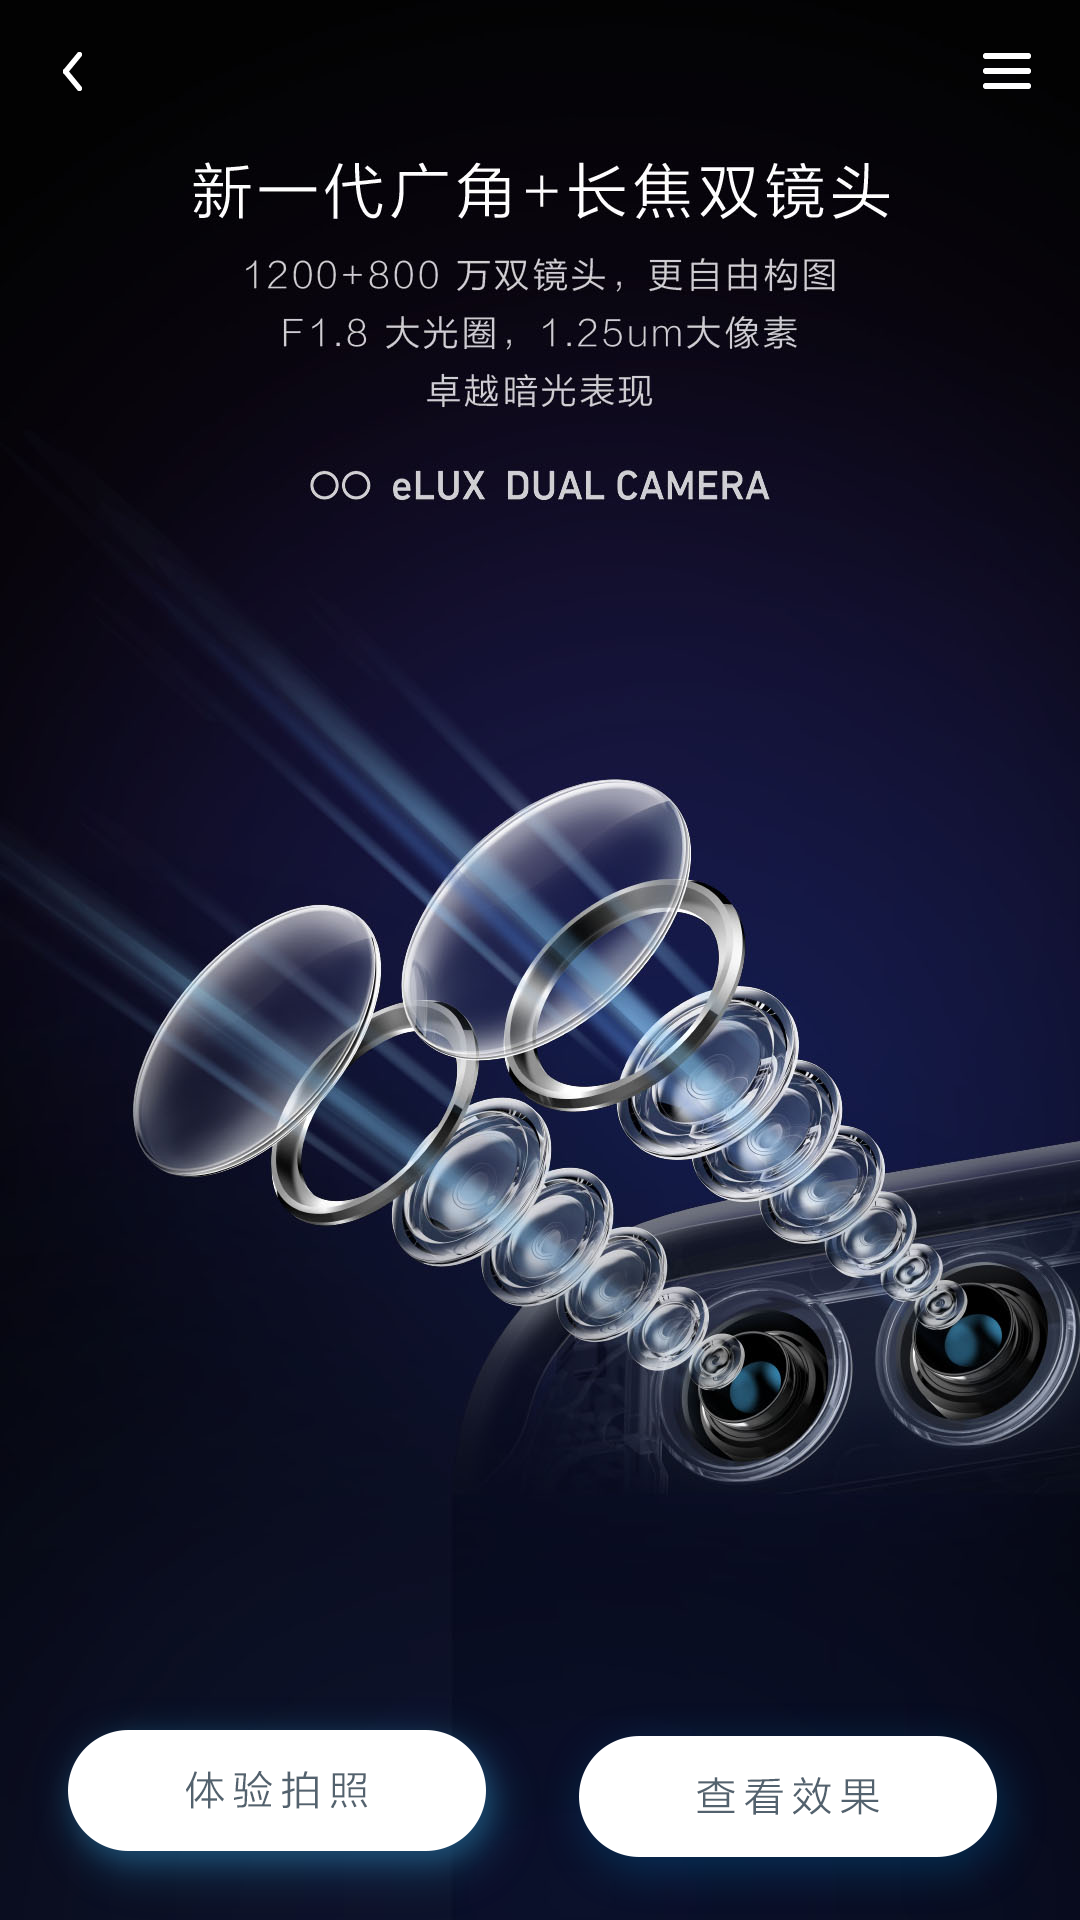

Where icons sit on this 1080×1920 app screen, as (x1=x1, y1=y1, x2=x2, y2=y2):
back: (x1=63, y1=52, x2=82, y2=91)
menu: (x1=983, y1=53, x2=1031, y2=89)
